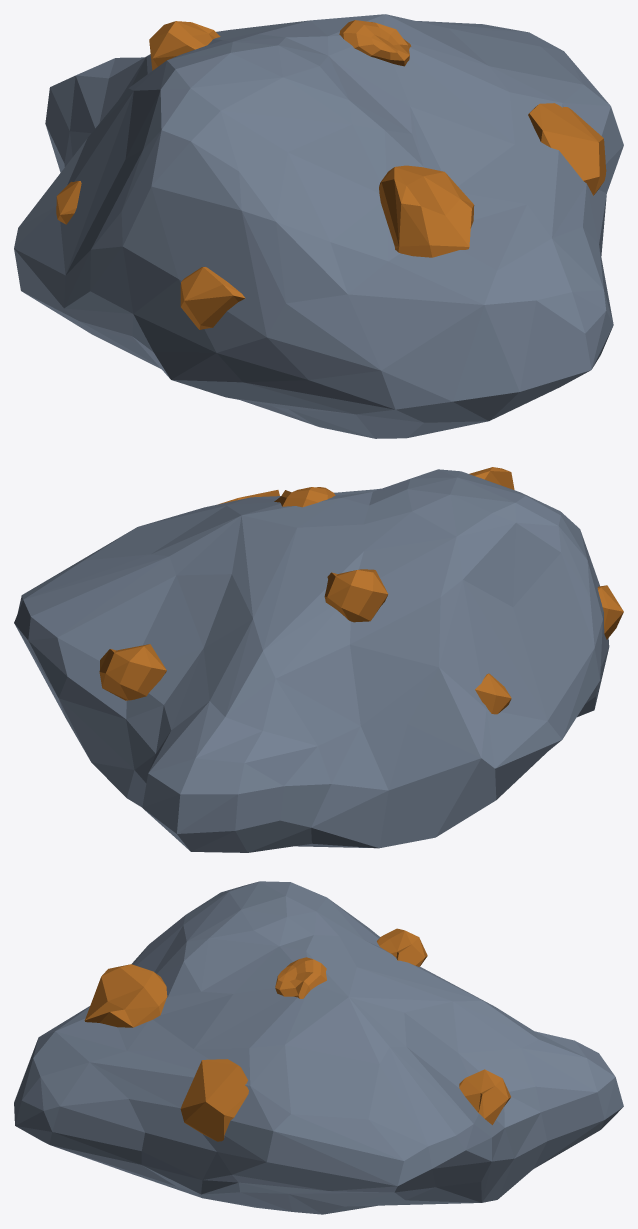
File: stone0-copper.obj
The picture shows the model from 3 angles, top to bottom: view 1: azimuth 30°, elevation 25°; view 2: azimuth 150°, elevation 25°; view 3: azimuth 270°, elevation 25°; orthographic projection. The views are drawn at different scales.
Visible parts, largest first — view 1: Sphere, Sphere.001, Sphere.002_Sphere.001, Sphere.007_Sphere.001, Sphere.005_Sphere.001, Sphere.004_Sphere.001, Sphere.006_Sphere.001; view 2: Sphere, Sphere.003_Sphere.001, Sphere.004_Sphere.001, Sphere.006_Sphere.001, Sphere.005_Sphere.001, Sphere.007_Sphere.001, Sphere.001; view 3: Sphere, Sphere.001, Sphere.002_Sphere.001, Sphere.003_Sphere.001, Sphere.005_Sphere.001, Sphere.004_Sphere.001.
Boxes of the visible parts, <box> form: Sphere: <box>14,14,623,438</box>; Sphere.001: <box>379,165,474,257</box>; Sphere.002_Sphere.001: <box>528,103,606,195</box>; Sphere.007_Sphere.001: <box>180,267,245,329</box>; Sphere.005_Sphere.001: <box>339,20,411,66</box>; Sphere.004_Sphere.001: <box>149,21,220,70</box>; Sphere.006_Sphere.001: <box>56,181,81,224</box>; Sphere: <box>14,469,609,852</box>; Sphere.003_Sphere.001: <box>99,644,166,700</box>; Sphere.004_Sphere.001: <box>324,569,388,622</box>; Sphere.006_Sphere.001: <box>475,673,511,714</box>; Sphere.005_Sphere.001: <box>274,487,335,507</box>; Sphere.007_Sphere.001: <box>597,585,623,639</box>; Sphere.001: <box>469,467,514,489</box>; Sphere: <box>14,881,623,1214</box>; Sphere.001: <box>84,964,167,1027</box>; Sphere.002_Sphere.001: <box>180,1059,248,1141</box>; Sphere.003_Sphere.001: <box>459,1069,510,1124</box>; Sphere.005_Sphere.001: <box>275,957,326,998</box>; Sphere.004_Sphere.001: <box>377,928,427,966</box>.
Bounding box in the file's own units: 2.49 × 1.53 × 3.07.
